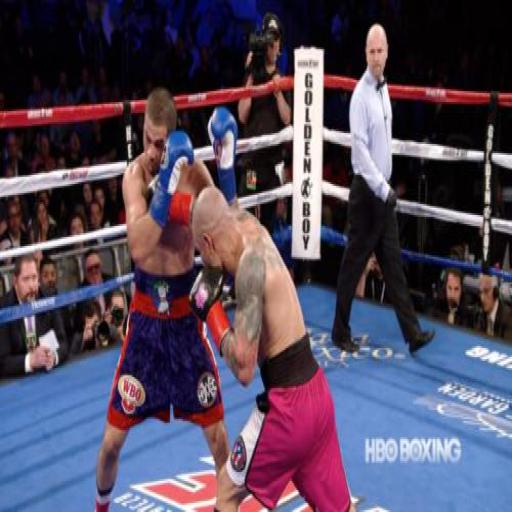boxing: (142, 169, 366, 512), (90, 86, 243, 510)
